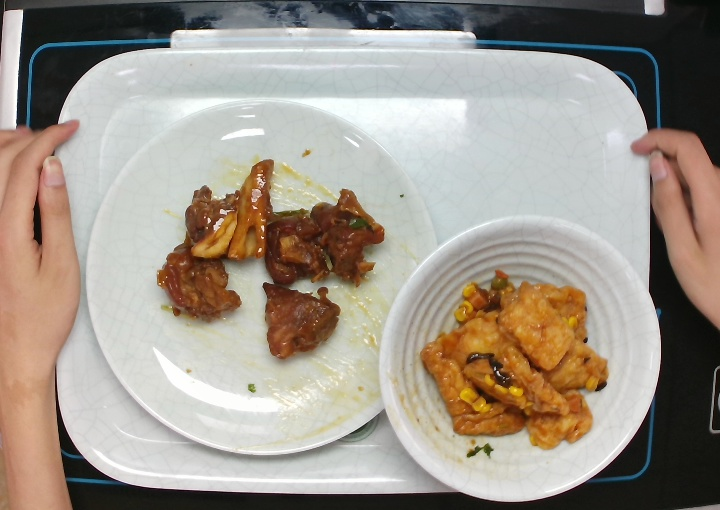JYsf-Da_Yuan_Pan: (80, 93, 441, 460)
JYsf-Xiao_Tang_Wan: (372, 209, 669, 510)
